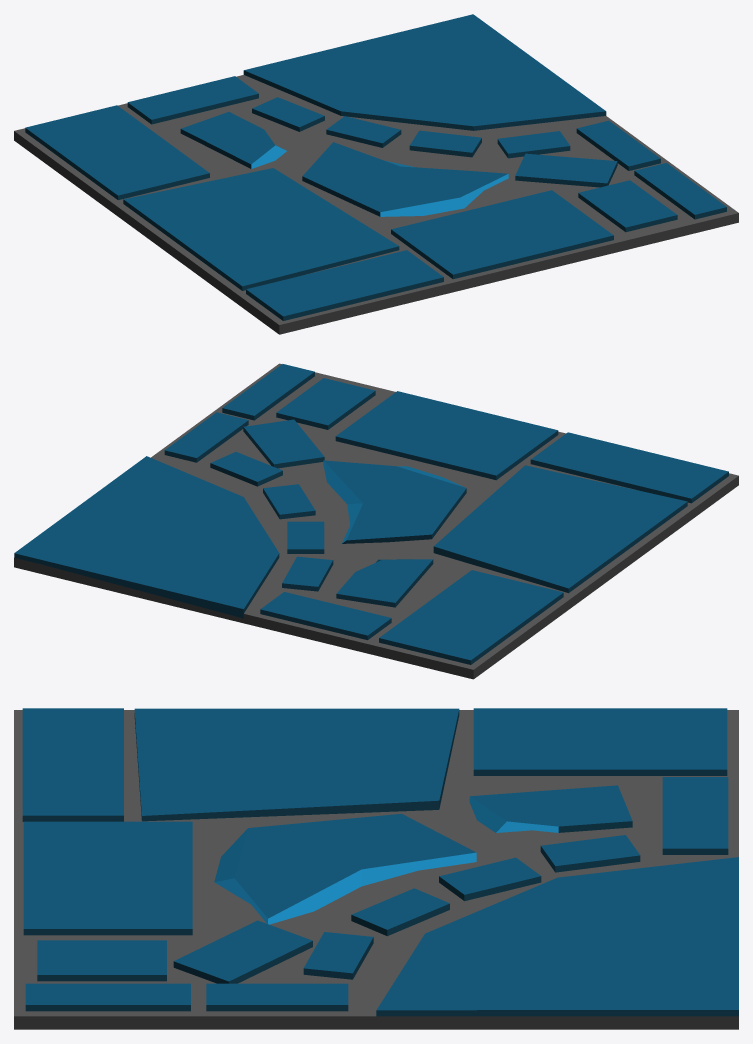
The model's file is floor_type_03.fbx.
The picture shows the model from 3 angles, top to bottom: view 1: azimuth 30°, elevation 25°; view 2: azimuth 150°, elevation 25°; view 3: azimuth 270°, elevation 25°; orthographic projection. The views are drawn at different scales.
Visible parts, largest first — view 1: floor_type_03; view 2: floor_type_03; view 3: floor_type_03.
Boxes of the visible parts, left/top/right/bottom form: floor_type_03: left=14, top=14, right=738, bottom=334; floor_type_03: left=14, top=363, right=738, bottom=679; floor_type_03: left=14, top=708, right=738, bottom=1029.
Bounding box in the file's own units: 200 × 6.79 × 200.
